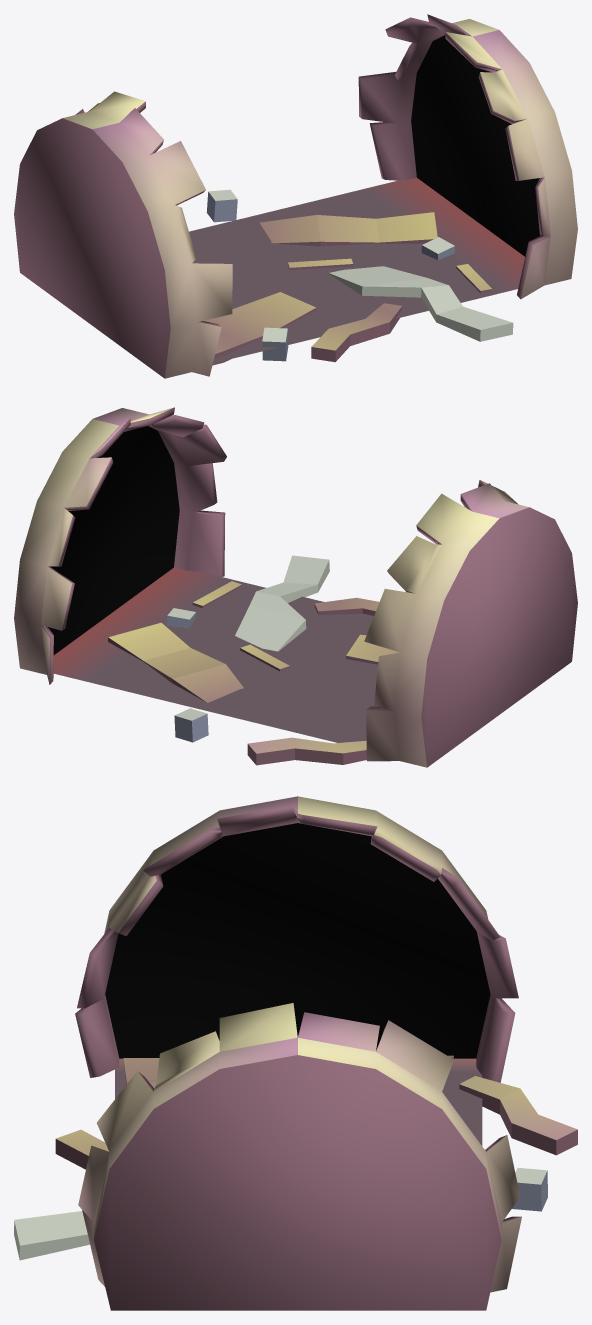
The model's file is Pipe.Union.Broken.Desert.glb.
3 renders of one model, top to bottom at view 1: azimuth 30°, elevation 25°; view 2: azimuth 150°, elevation 25°; view 3: azimuth 270°, elevation 25°, orthographic. The views are drawn at different scales.
Parts seen in each view (by area): view 1: Pipe.Union.Broken.Desert; view 2: Pipe.Union.Broken.Desert; view 3: Pipe.Union.Broken.Desert.
Part boxes in pixels (bbox=[...]): Pipe.Union.Broken.Desert: bbox=[14, 14, 577, 378]; Pipe.Union.Broken.Desert: bbox=[14, 407, 577, 767]; Pipe.Union.Broken.Desert: bbox=[14, 796, 577, 1310].
Bounding box in the file's own units: 3 × 1.57 × 2.76.
1 material, 1 textured.
